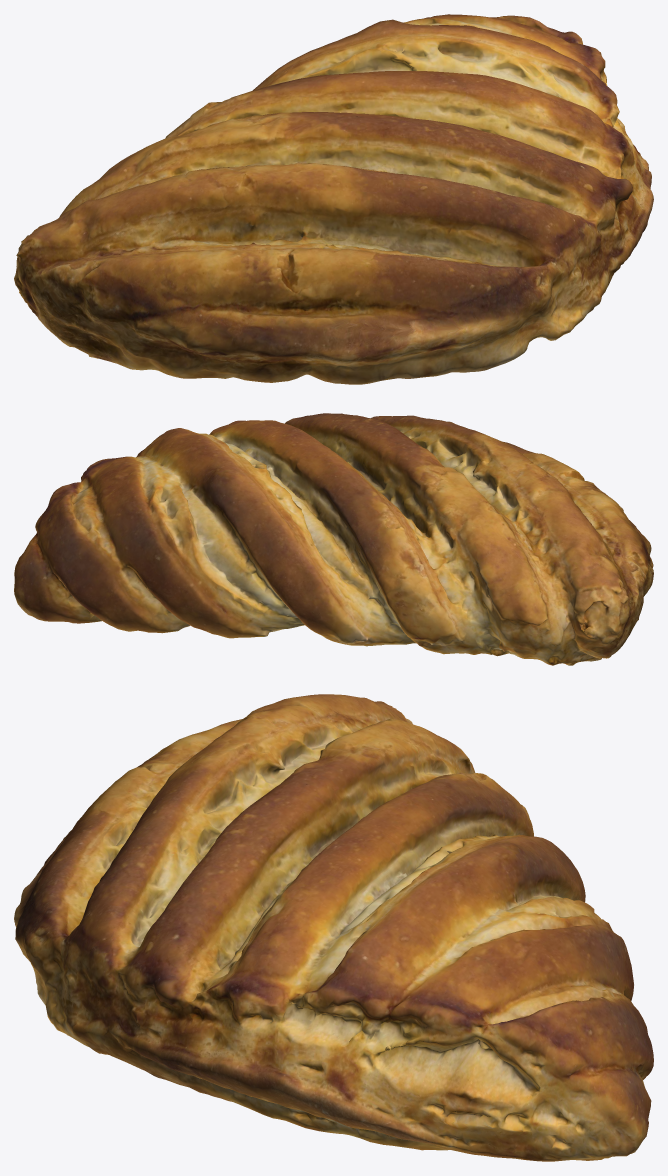
File: BakeryProduct8_LOD1.gltf
The picture shows the model from 3 angles, top to bottom: view 1: azimuth 30°, elevation 25°; view 2: azimuth 150°, elevation 25°; view 3: azimuth 270°, elevation 25°; orthographic projection. The views are drawn at different scales.
Visible parts, largest first — view 1: BakeryProduct8_LOD1; view 2: BakeryProduct8_LOD1; view 3: BakeryProduct8_LOD1.
Boxes of the visible parts, left/top/right/bottom form: BakeryProduct8_LOD1: left=14, top=14, right=653, bottom=384; BakeryProduct8_LOD1: left=14, top=413, right=653, bottom=665; BakeryProduct8_LOD1: left=14, top=694, right=653, bottom=1161.
Size of the model in its own units: 0.1416 by 0.0412 by 0.1078.
1 material, 1 textured.
